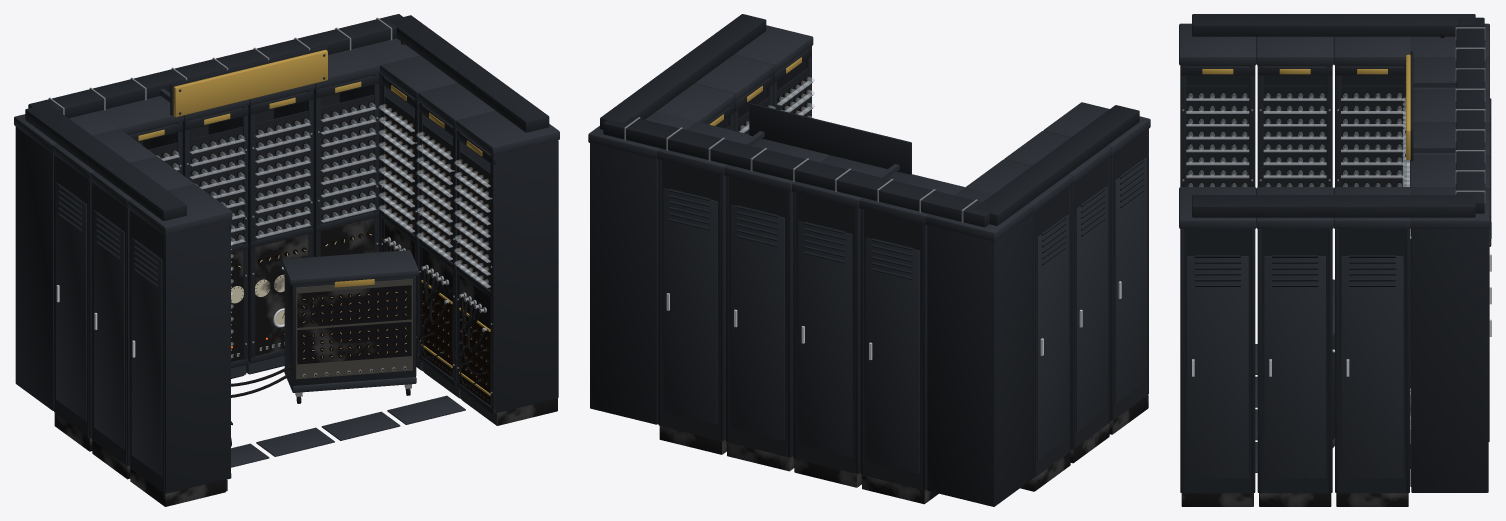
File: eniac.glb
3 renders of one model, left to right at view 1: azimuth 30°, elevation 25°; view 2: azimuth 150°, elevation 25°; view 3: azimuth 270°, elevation 25°, orthographic. The views are drawn at different scales.
Parts seen in each view (by area): view 1: cabinets, tubeGlass, patchCords, jacks; view 2: cabinets; view 3: cabinets, tubeGlass.
Part boxes in pixels (x1,y1,x2,y2): cabinets: (14,14,559,506); tubeGlass: (156,103,488,346); patchCords: (231,41,486,446); jacks: (422,289,488,386); cabinets: (588,14,1150,506); cabinets: (1179,14,1491,506); tubeGlass: (1188,93,1410,235).
Bounding box in the file's own units: 3.65 × 2.73 × 2.43.
15 materials, 5 textured.
